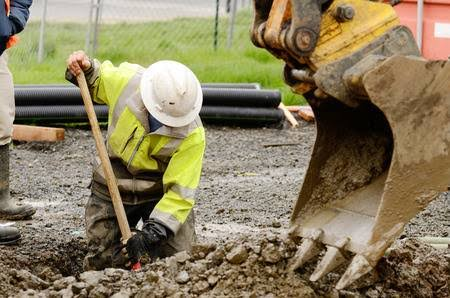hard hat: (139, 57, 207, 125)
safe person: (68, 47, 210, 261)
